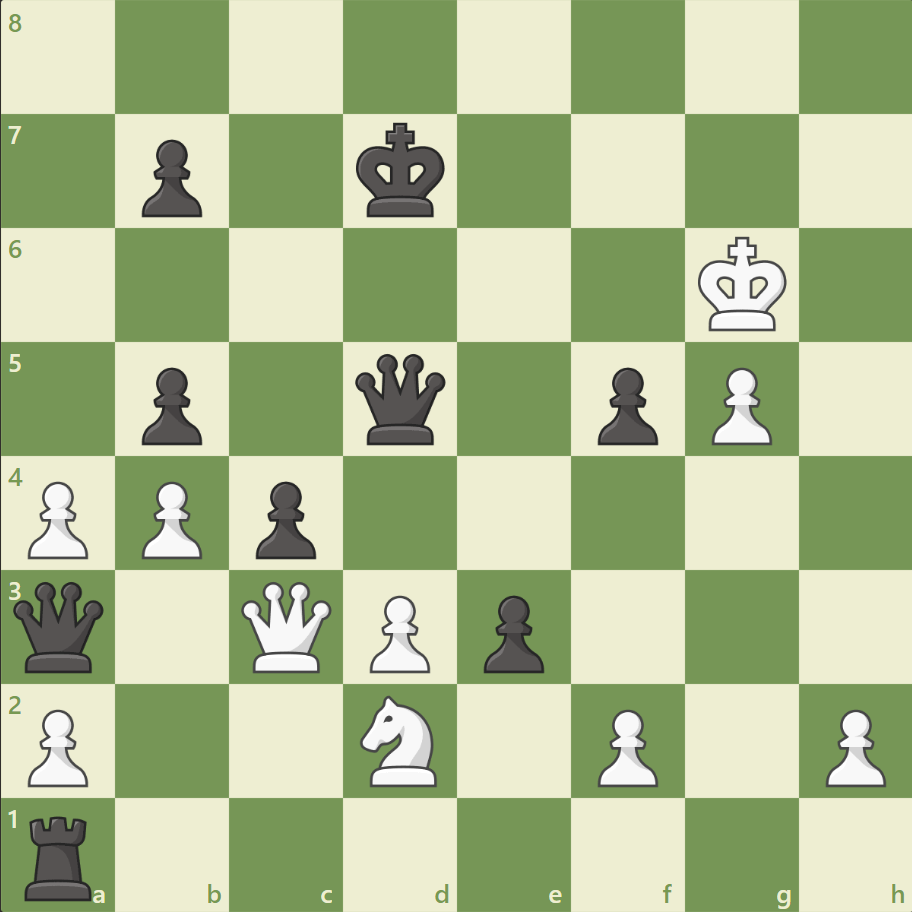K: (692, 231, 792, 339)
N: (351, 688, 449, 791)
P: (701, 359, 776, 450), (20, 473, 95, 564), (133, 473, 208, 564), (20, 700, 95, 791), (361, 586, 435, 677), (588, 700, 662, 791), (815, 700, 889, 791)
Q: (237, 576, 336, 676)
k: (351, 117, 451, 225)
p: (133, 132, 208, 223), (133, 359, 208, 450), (247, 473, 322, 564), (474, 586, 549, 677), (588, 359, 662, 450)
q: (351, 349, 450, 449), (10, 576, 109, 676)
r: (19, 806, 102, 904)
